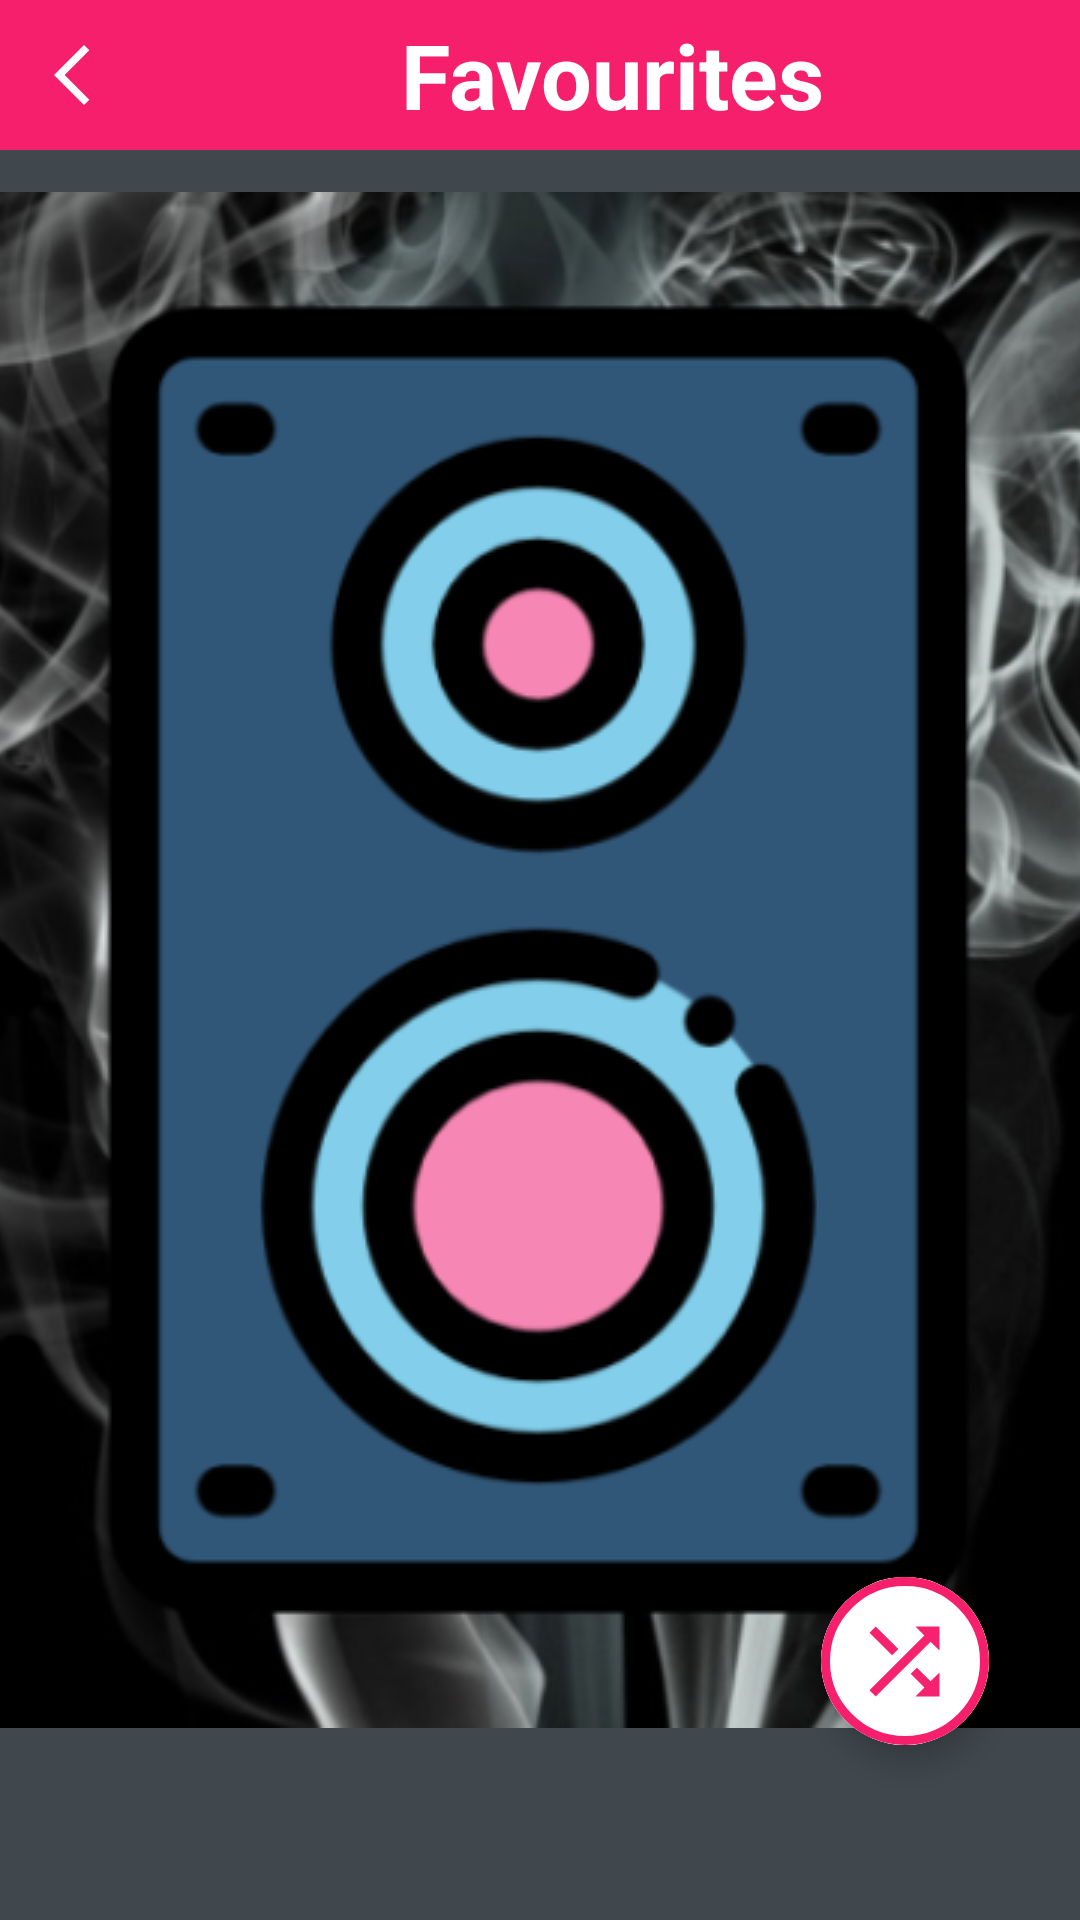

Icon bounding boxes for this 1080 × 1920 phone screenshot, format (x1, y1, x2, y2):
Back: (54, 45, 89, 105)
shuffle: (821, 1577, 989, 1745)
